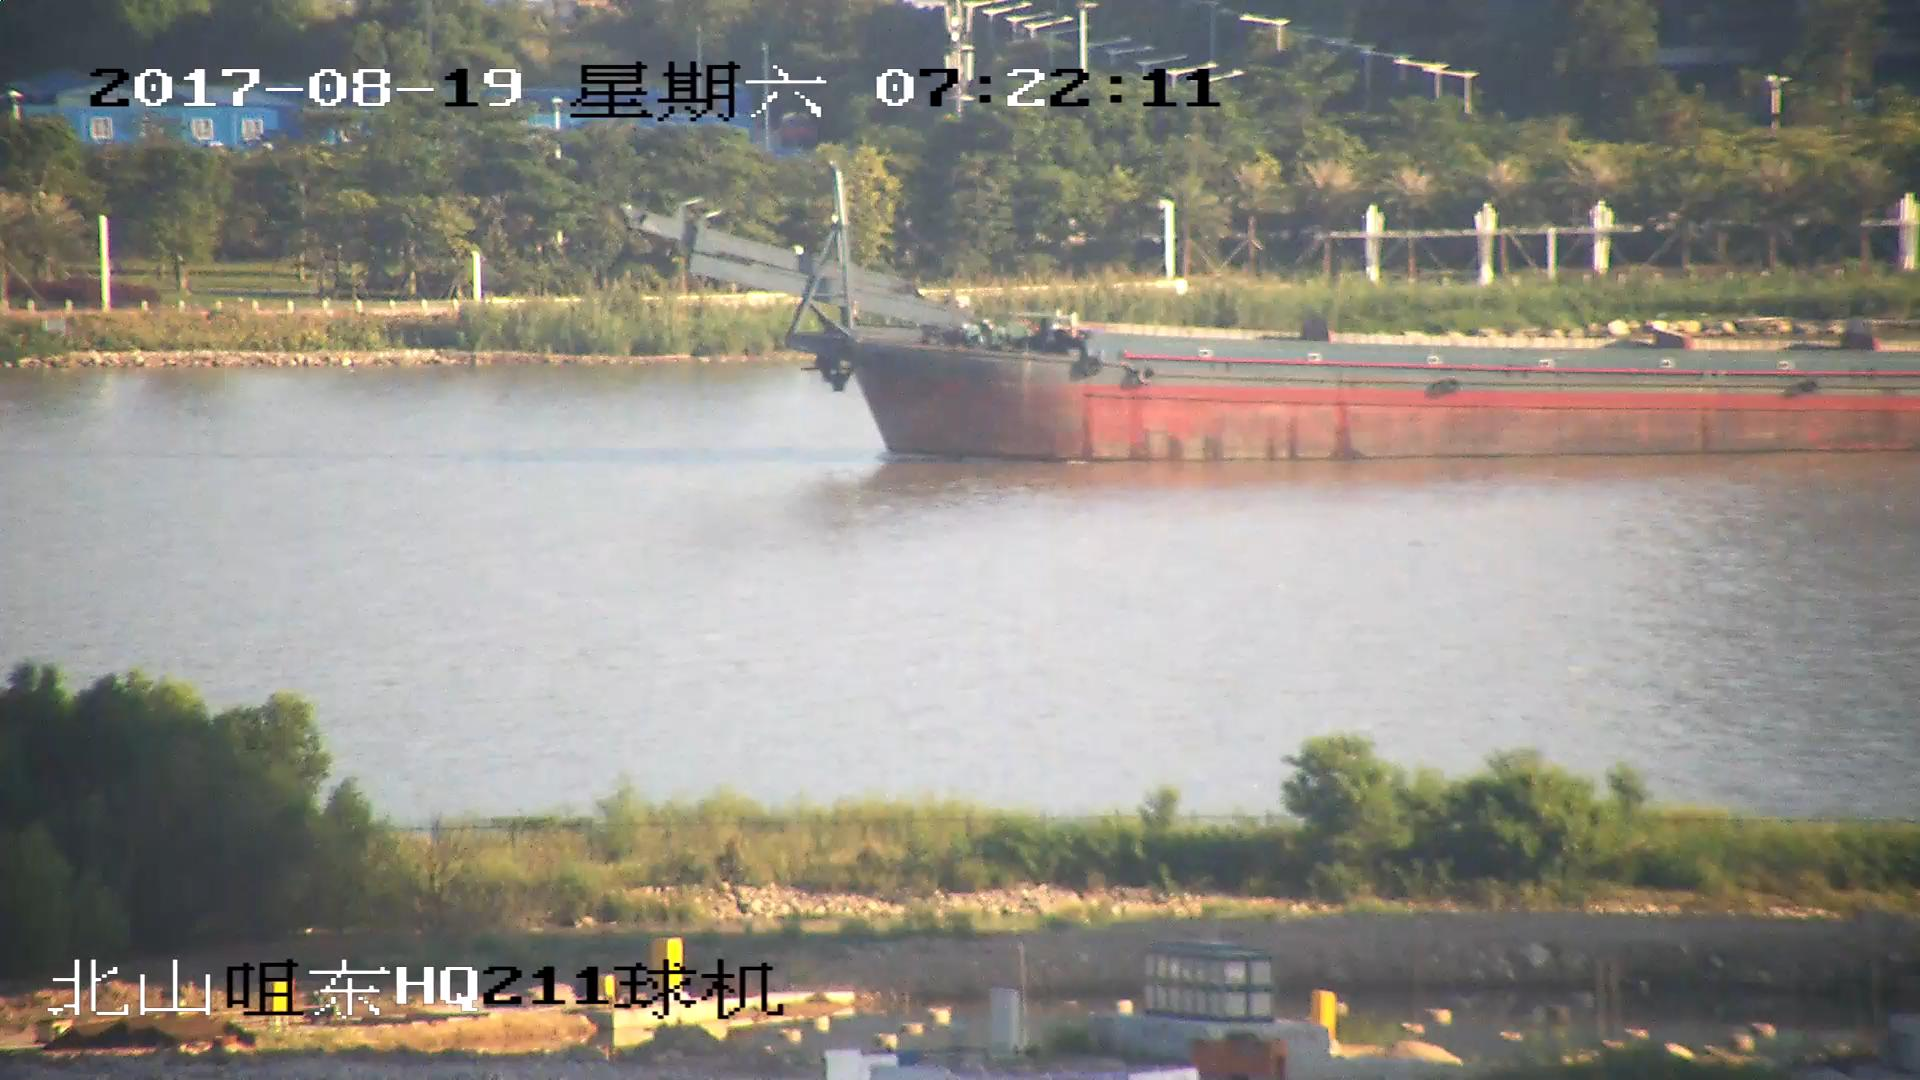bulk cargo carrier: (627, 164, 1920, 466)
